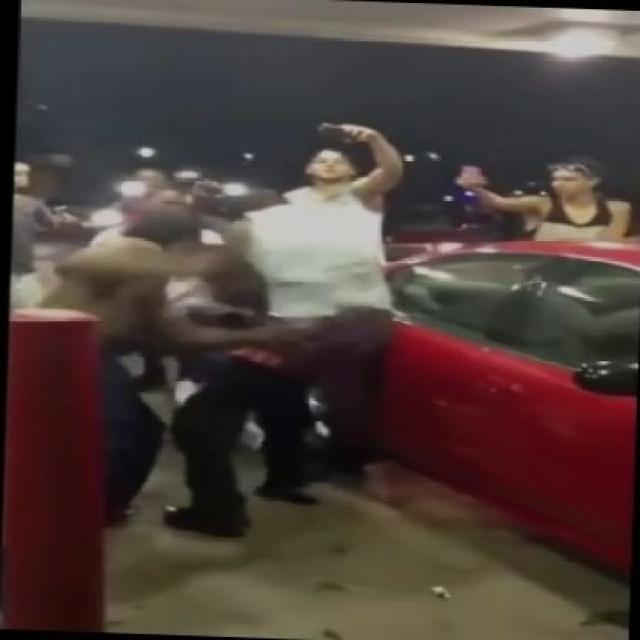fight: (31, 177, 396, 540)
